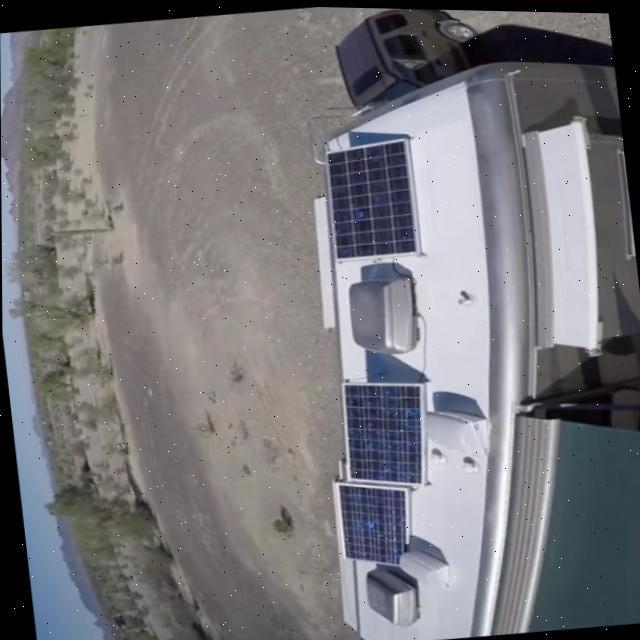Normal Solar Panel: (320, 134, 421, 260), (338, 372, 432, 490), (332, 474, 414, 570)
